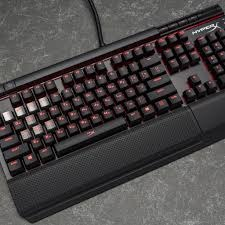keyboard: (2, 0, 225, 225)
